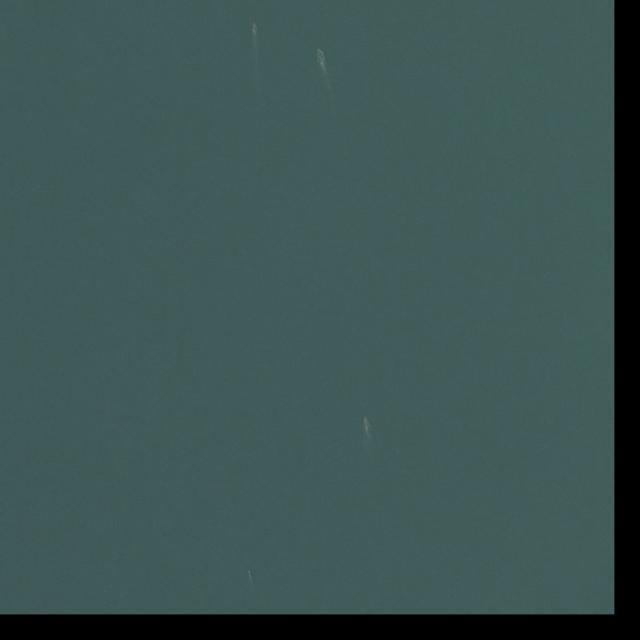ship: (316, 48, 326, 65), (363, 416, 370, 434), (252, 21, 258, 34), (250, 570, 252, 575)
